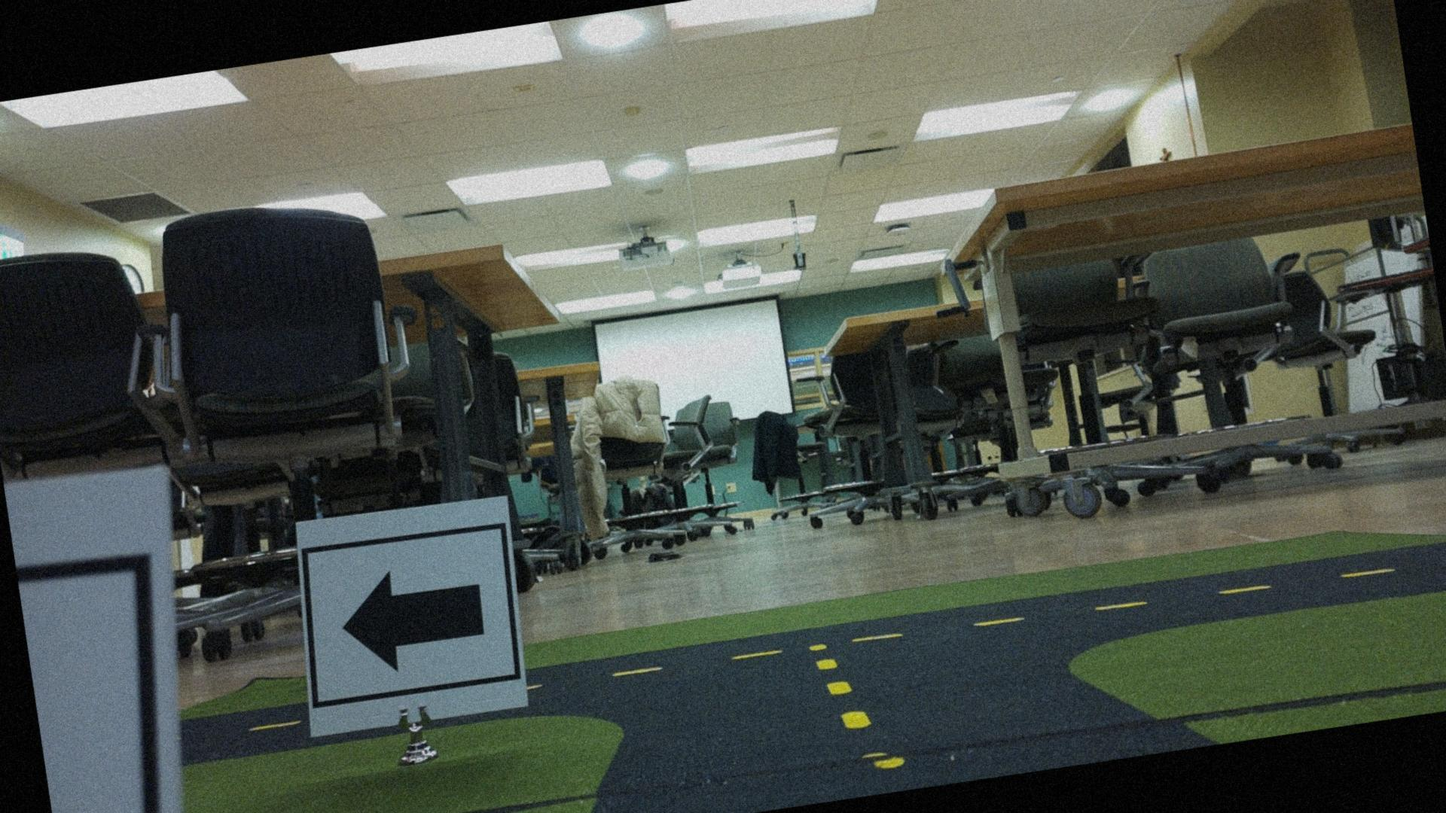turnleft: (291, 501, 526, 734)
yellowline: (615, 555, 1398, 687), (805, 629, 871, 735)
